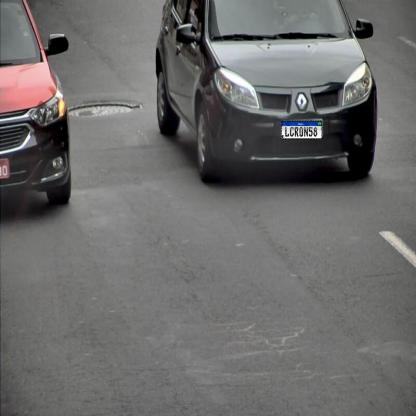PlacaM: (281, 121, 322, 139)
